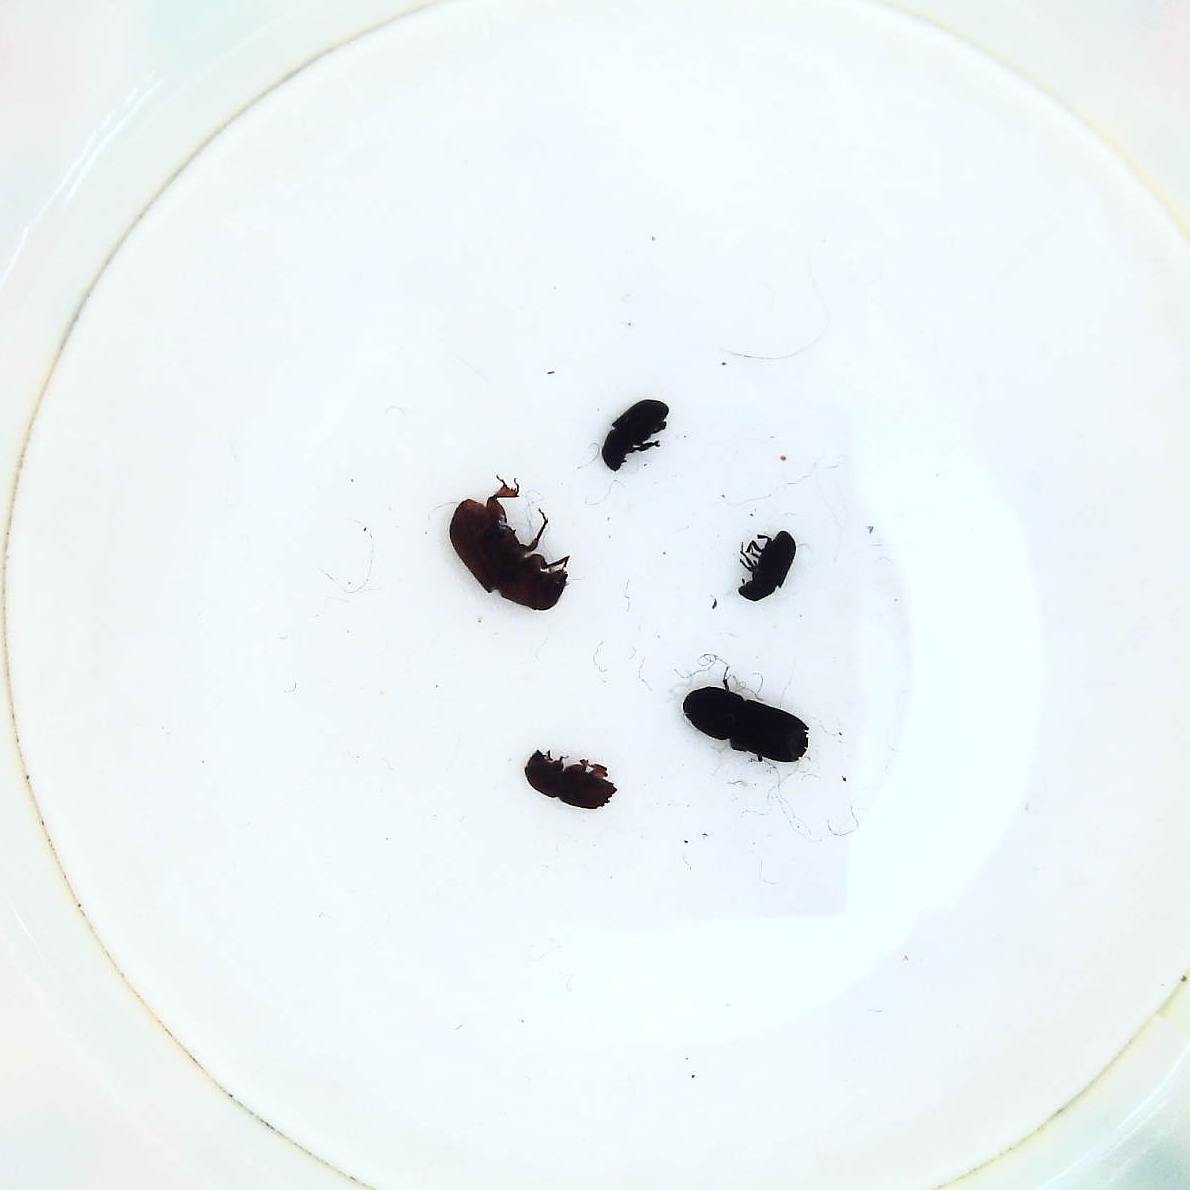Boerner: (680, 677, 814, 774)
Leconte: (446, 470, 572, 618)
armandi: (602, 394, 672, 477)
coleoptera: (733, 526, 802, 606)
linnaeus: (521, 745, 624, 814)
